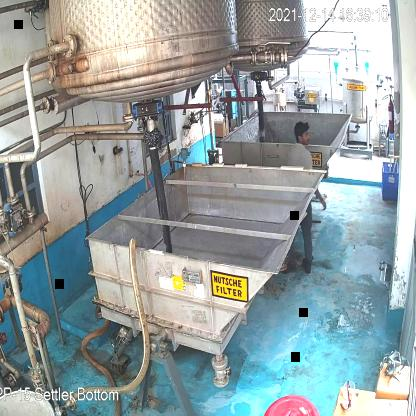shoes: (302, 254, 314, 276)
